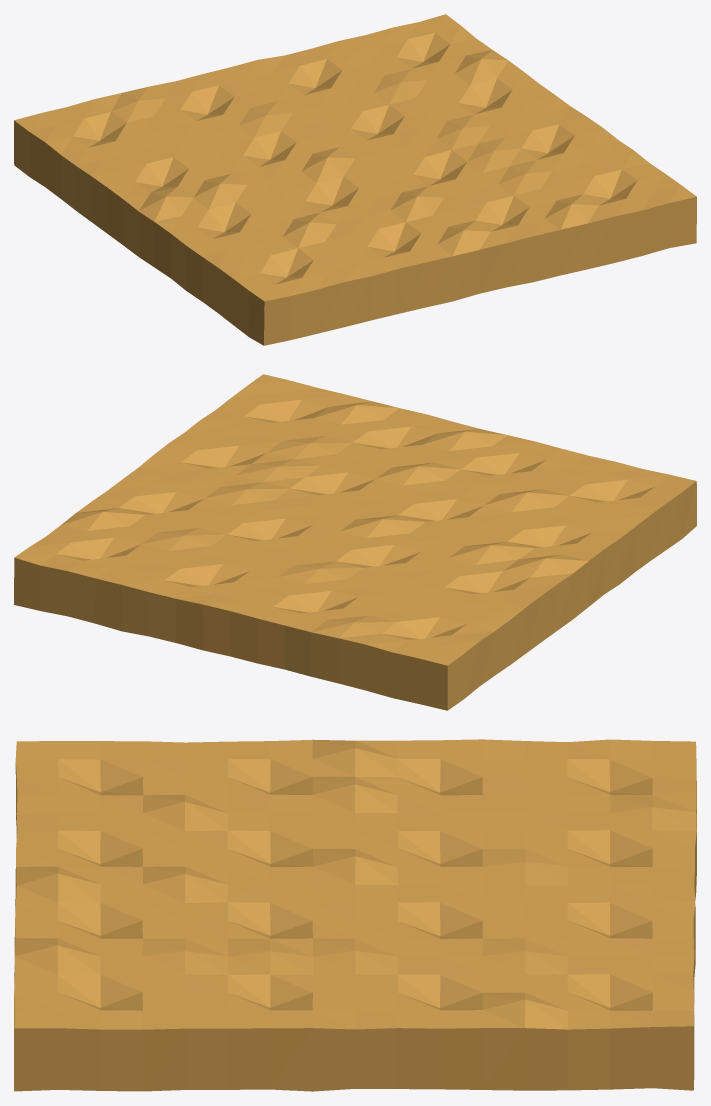
Rendered from cracker.glb.
3 views of the same model, one above another, from view 1: azimuth 30°, elevation 25°; view 2: azimuth 150°, elevation 25°; view 3: azimuth 270°, elevation 25° (orthographic). The views are drawn at different scales.
Size of the model in its own units: 2.01 by 0.2411 by 2.01.
